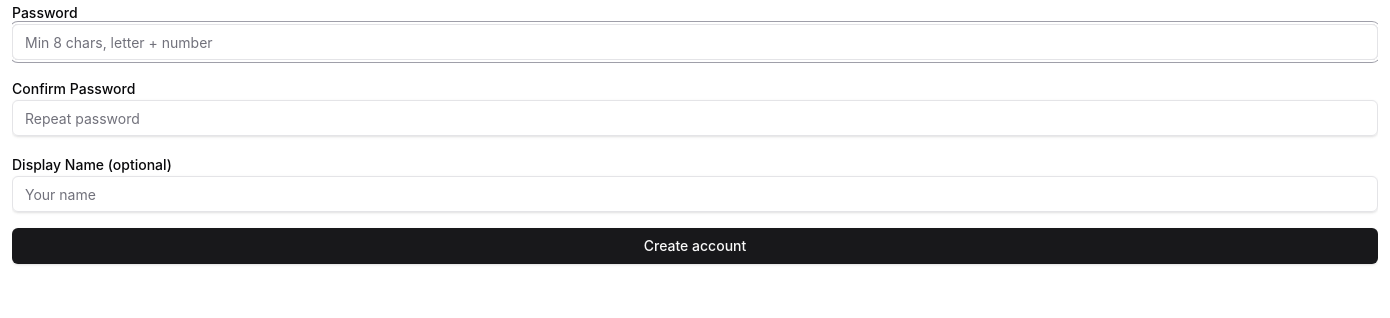
Test case: OnboardingForm › shows 409 conflict error when owner already exists
Type "Password1" into the password field labelled "Password" at (695, 42), box [12,24,1378,60]
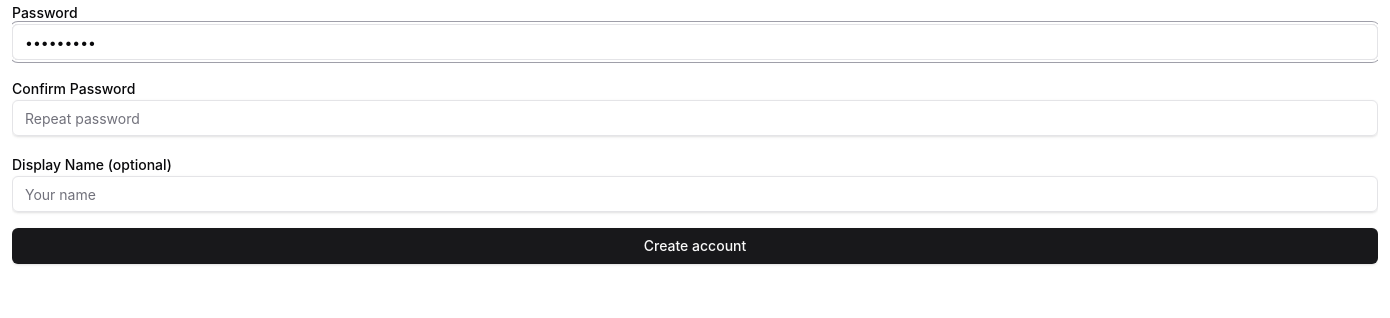
Type "Password1" into the password field labelled "Confirm Password" at (695, 118), box [12,100,1378,136]
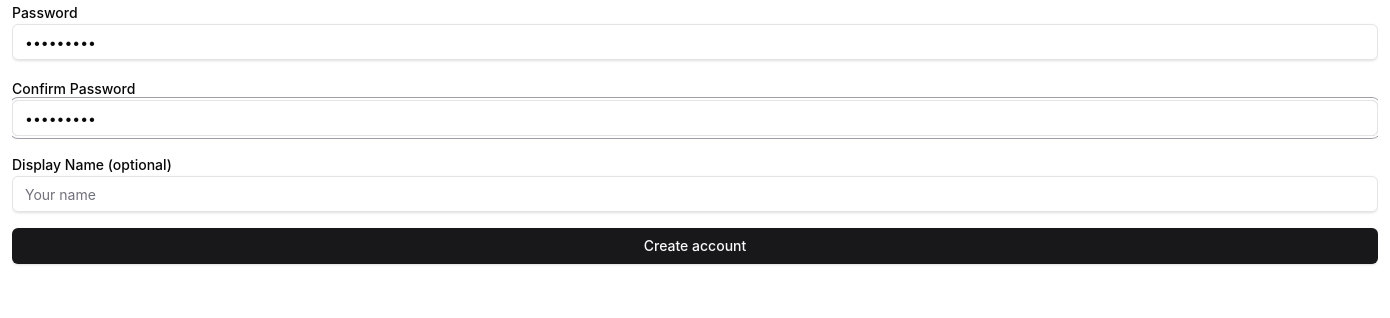
Click the button "Create account" at (695, 246), box [12,228,1378,264]
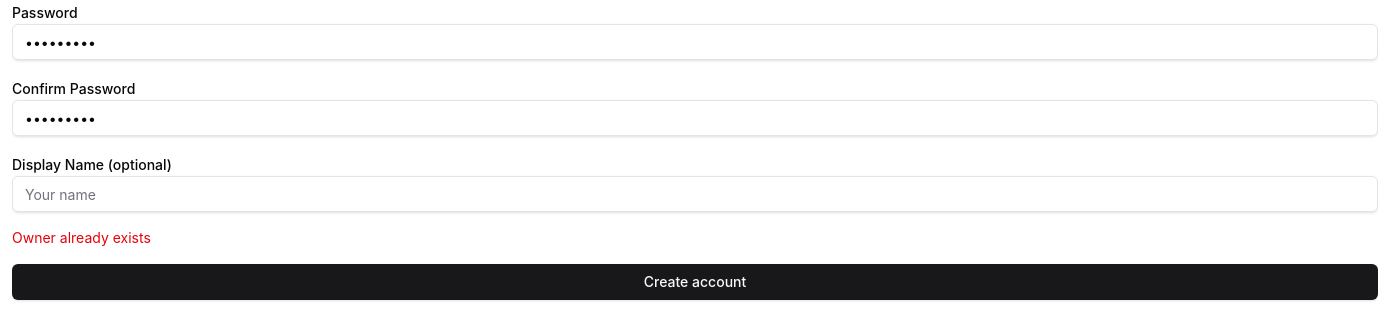
Check: the message shows "already exists", box [12,229,151,246]
